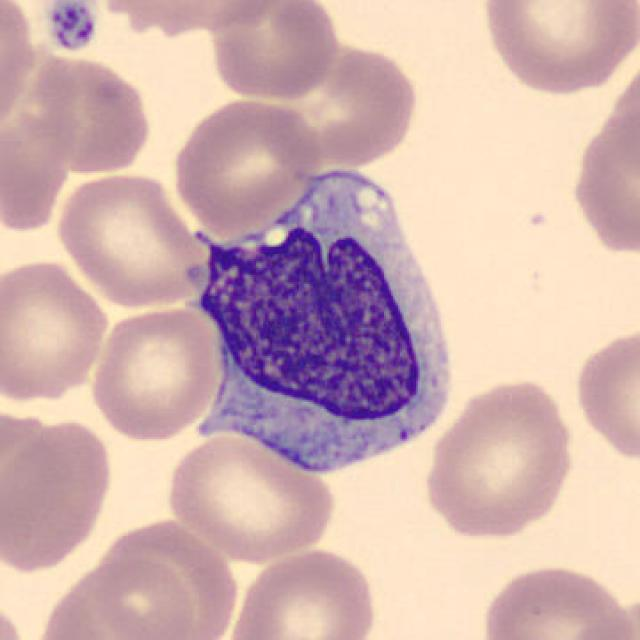Monocyte: (183, 157, 468, 488)
Platelets: (42, 0, 100, 55)
RBC: (422, 374, 580, 543), (162, 428, 338, 564), (52, 170, 218, 310), (169, 93, 323, 234), (267, 37, 423, 171), (87, 508, 241, 639), (87, 304, 224, 444), (0, 414, 117, 576), (18, 51, 154, 178), (0, 256, 110, 404), (474, 0, 636, 99), (565, 63, 640, 264), (222, 545, 380, 640), (206, 0, 341, 102), (478, 559, 636, 640), (74, 553, 204, 640), (570, 322, 640, 465), (100, 0, 290, 37), (0, 0, 37, 139), (555, 619, 638, 640), (0, 596, 28, 640)
